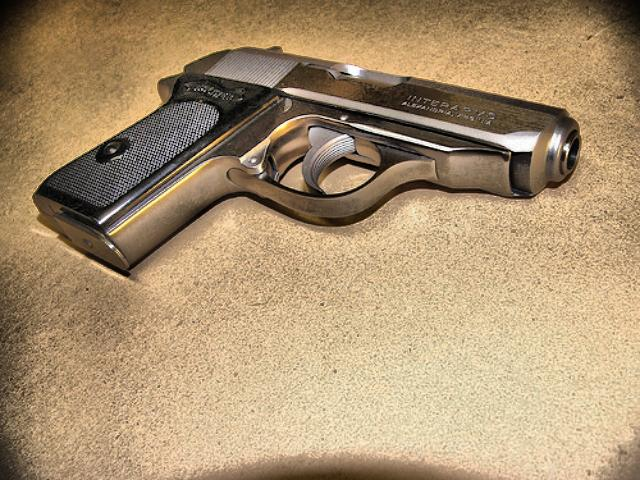pistol: (30, 44, 582, 274)
